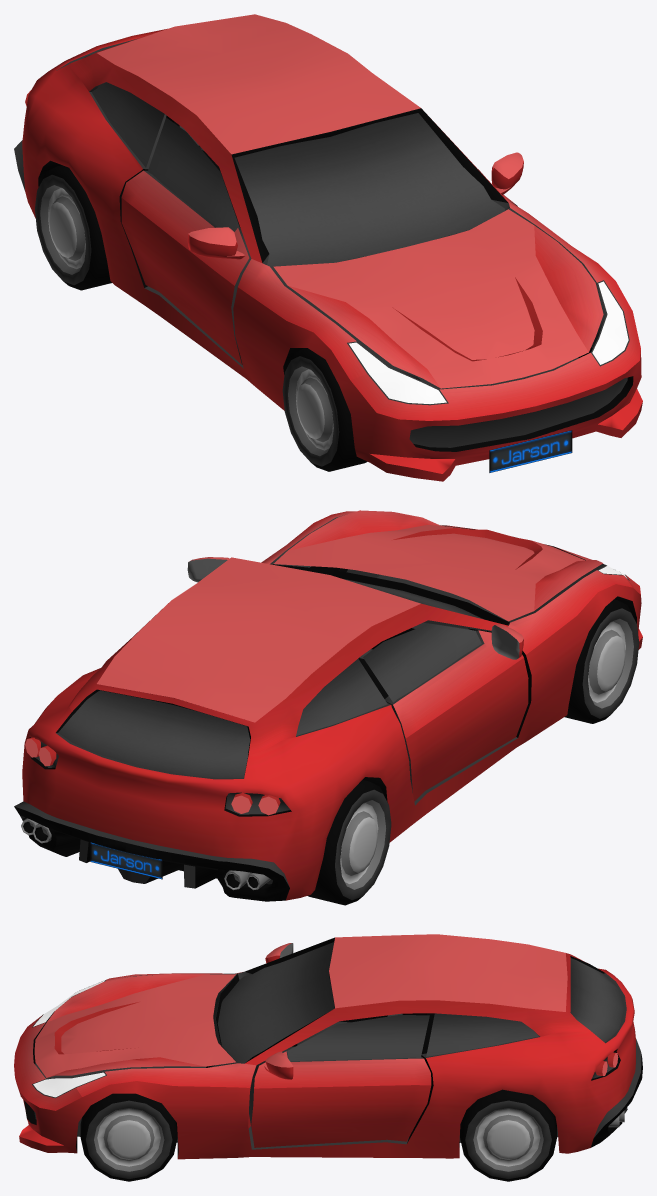
The model's file is carReg.glb.
3 renders of one model, top to bottom at view 1: azimuth 30°, elevation 25°; view 2: azimuth 150°, elevation 25°; view 3: azimuth 270°, elevation 25°, orthographic. The views are drawn at different scales.
Parts seen in each view (by area): view 1: body, hood, lDoor, fWheels, rWheels, fLicense, rDoor; view 2: body, lDoor, hood, rWheels, fWheels, rLicense, rDoor; view 3: body, rDoor, hood, rWheels, fWheels, lDoor.
Boxes of the visible parts, bbox=[...] form: body: bbox=[14, 14, 642, 481]; hood: bbox=[273, 209, 603, 388]; lDoor: bbox=[121, 117, 251, 364]; fWheels: bbox=[282, 348, 367, 471]; rWheels: bbox=[35, 165, 111, 290]; fLicense: bbox=[489, 430, 572, 472]; rDoor: bbox=[478, 152, 523, 206]; body: bbox=[14, 511, 642, 901]; lDoor: bbox=[363, 623, 528, 801]; hood: bbox=[273, 510, 603, 621]; rWheels: bbox=[307, 780, 391, 905]; fWheels: bbox=[564, 599, 639, 723]; rLicense: bbox=[90, 842, 162, 879]; rDoor: bbox=[187, 557, 229, 582]; body: bbox=[14, 934, 642, 1159]; rDoor: bbox=[249, 1015, 431, 1147]; hood: bbox=[34, 974, 235, 1077]; rWheels: bbox=[460, 1089, 556, 1181]; fWheels: bbox=[80, 1093, 177, 1181]; lDoor: bbox=[265, 943, 403, 1046].
Size of the model in its own units: 11.32 by 6.97 by 24.27.
2 materials, 2 textured.
